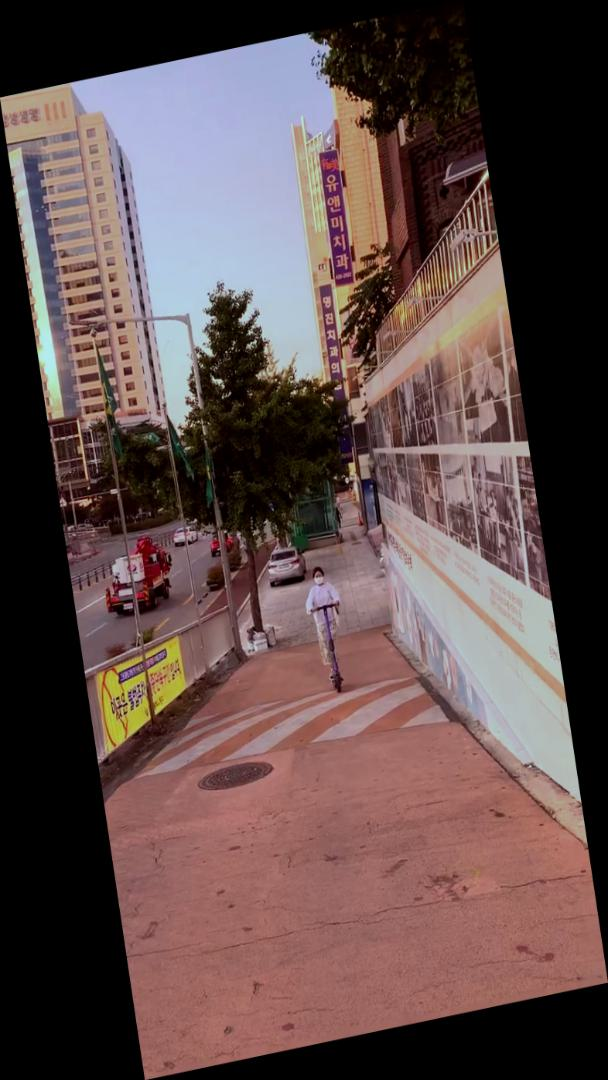nonhelmet: (299, 560, 357, 700)
